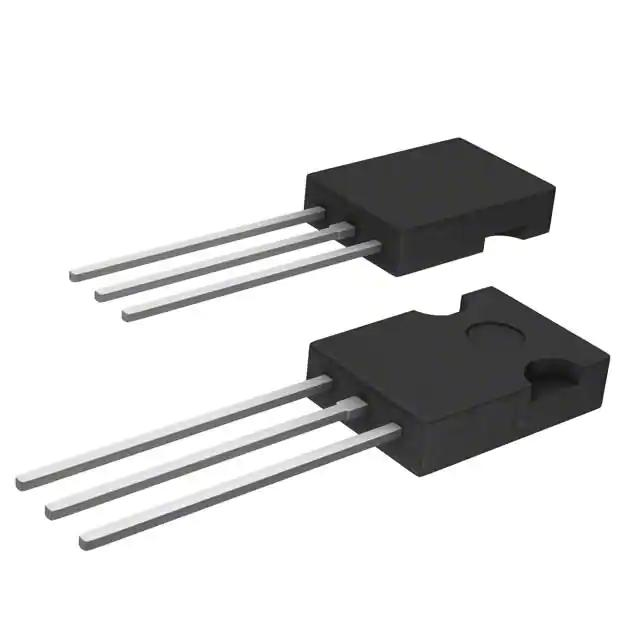Transistor: (14, 287, 612, 554), (68, 138, 557, 323)
